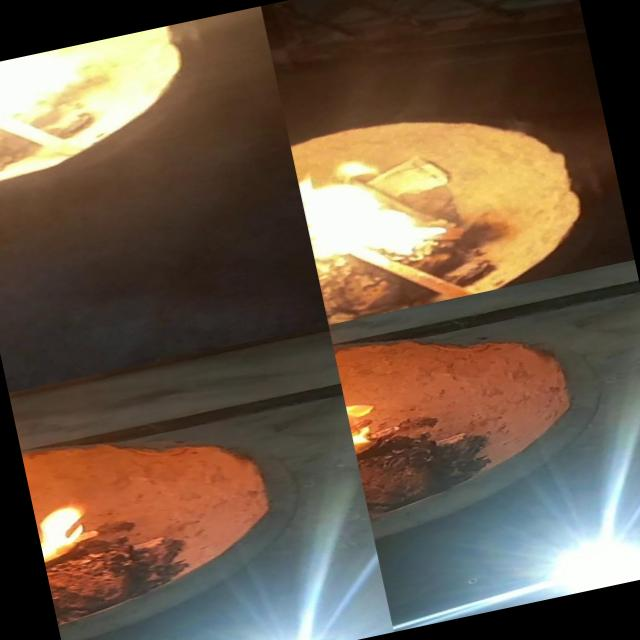fire: (11, 391, 130, 617), (298, 146, 472, 278), (0, 35, 140, 157)
